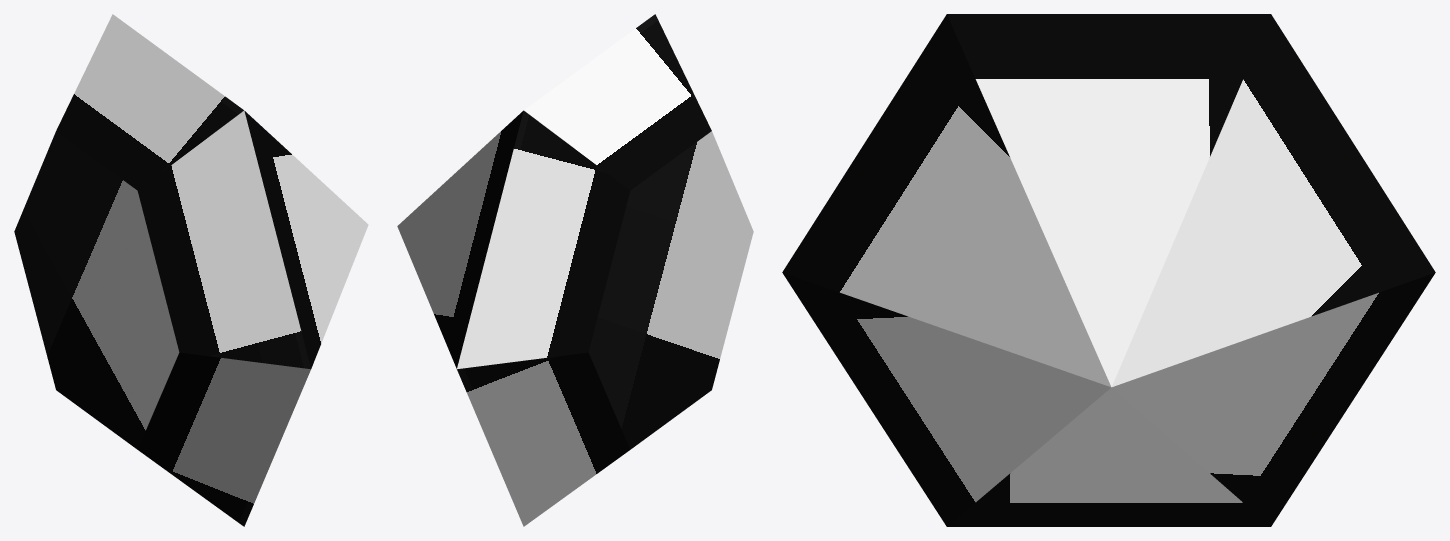
The model's file is EmeraldOld.fbx.
3 renders of one model, left to right at view 1: azimuth 30°, elevation 25°; view 2: azimuth 150°, elevation 25°; view 3: azimuth 270°, elevation 25°, orthographic. The views are drawn at different scales.
Visible parts, largest first — view 1: emerald; view 2: emerald; view 3: emerald.
Boxes of the visible parts, <box> form: emerald: <box>14,14,368,526</box>; emerald: <box>397,14,753,526</box>; emerald: <box>782,14,1435,526</box>.
Bounding box in the file's own units: 4.8 × 2.85 × 4.16.
